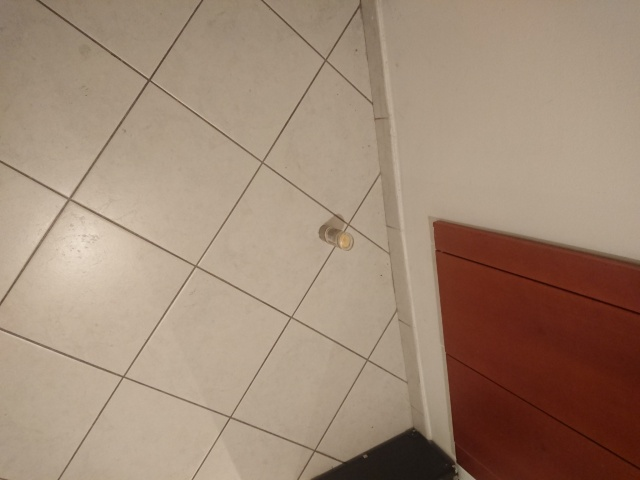Kotanyi Garlic Granules 70g: (317, 223, 356, 253)
